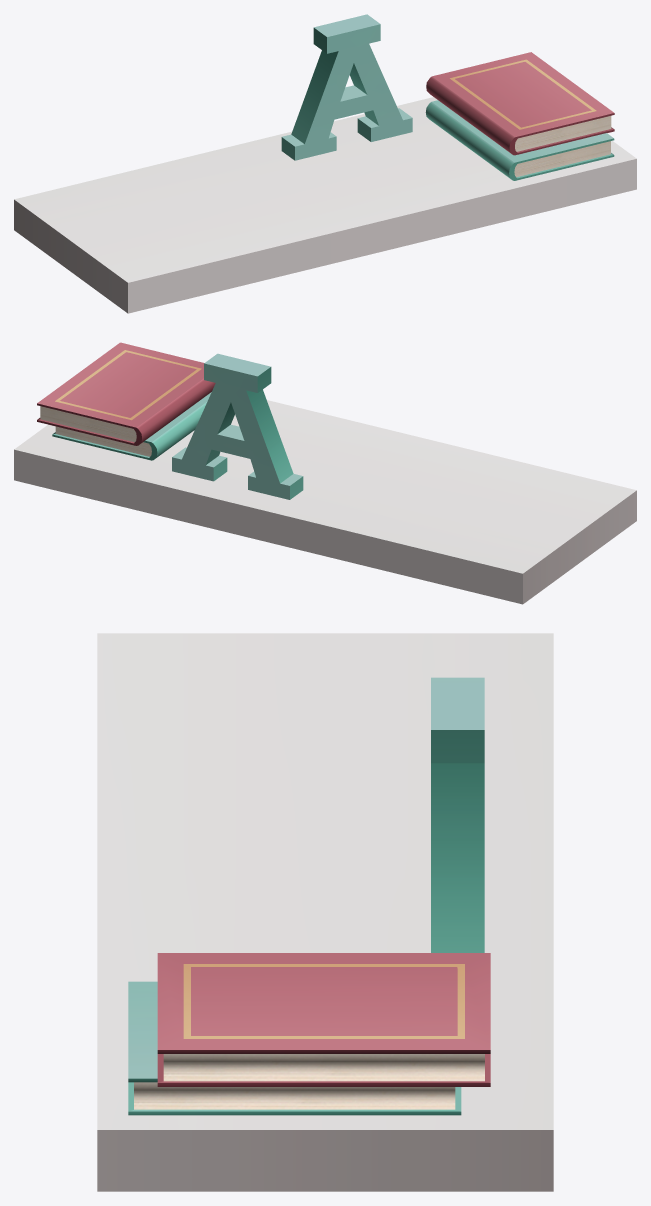
Rendered from Doll_OB_Shelf_005.FBX.
3 renders of one model, top to bottom at view 1: azimuth 30°, elevation 25°; view 2: azimuth 150°, elevation 25°; view 3: azimuth 270°, elevation 25°, orthographic. The views are drawn at different scales.
Parts seen in each view (by area): view 1: Doll_OB_Shelf_005; view 2: Doll_OB_Shelf_005; view 3: Doll_OB_Shelf_005.
Part boxes in pixels (x1,y1,x2,y2): Doll_OB_Shelf_005: [14, 14, 636, 313]; Doll_OB_Shelf_005: [14, 342, 636, 604]; Doll_OB_Shelf_005: [97, 633, 553, 1191].
Size of the model in its own units: 58.35 by 16.05 by 22.65.
